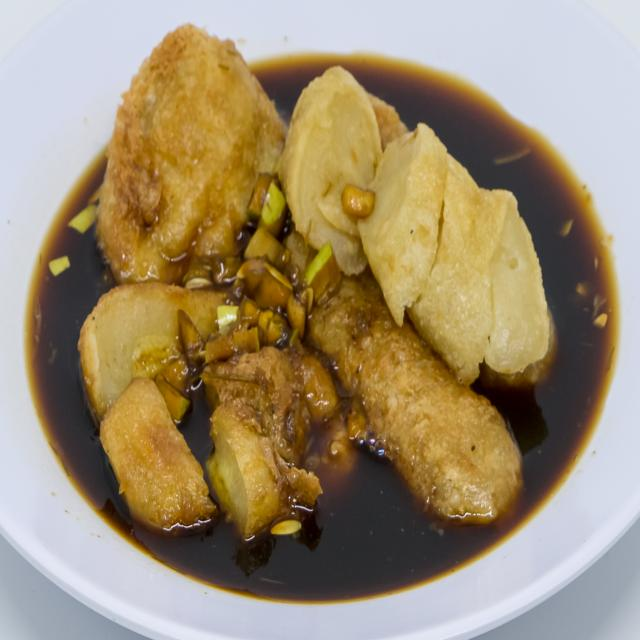Pempek-Palembang: (54, 16, 586, 568)
